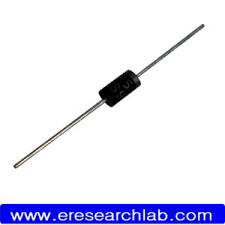diode: (87, 53, 163, 118)
